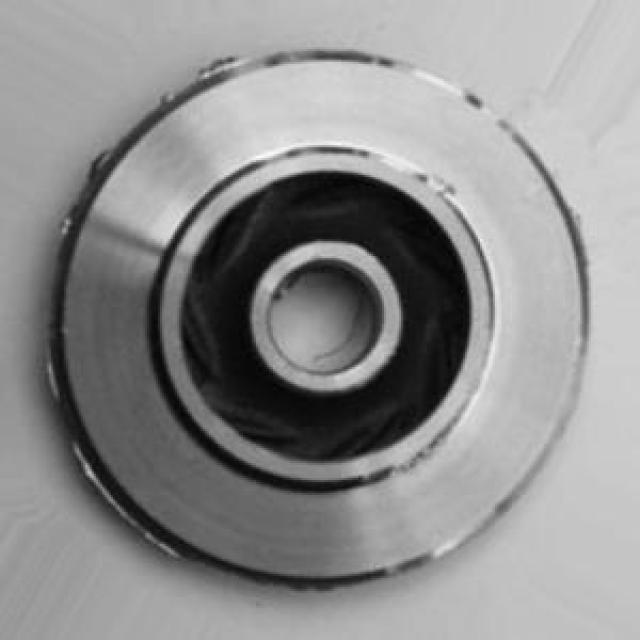Defect: (190, 40, 252, 90)
